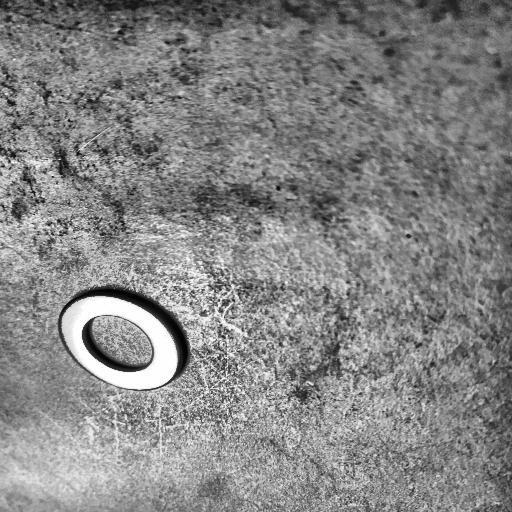Washer: (58, 287, 190, 392)
